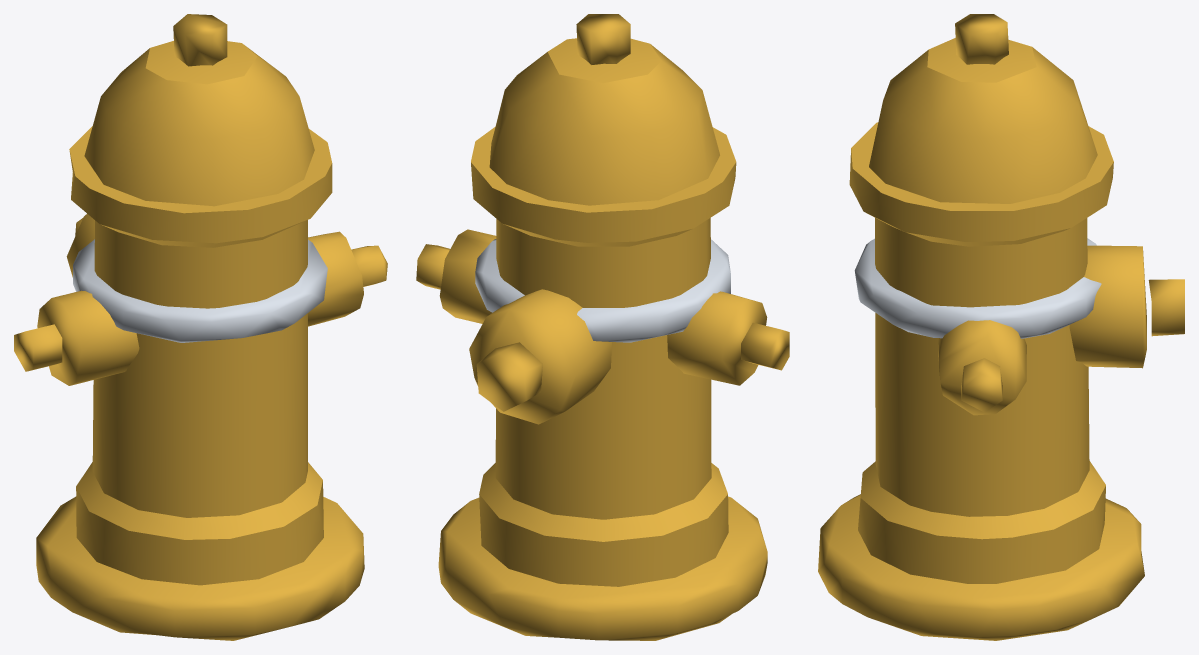
File: gold_hydrant.glb
3 renders of one model, left to right at view 1: azimuth 30°, elevation 25°; view 2: azimuth 150°, elevation 25°; view 3: azimuth 270°, elevation 25°, orthographic.
Parts seen in each view (by area): view 1: gold_hydrant; view 2: gold_hydrant; view 3: gold_hydrant.
Boxes of the visible parts, bbox=[...] form: gold_hydrant: bbox=[14, 14, 387, 640]; gold_hydrant: bbox=[416, 14, 789, 640]; gold_hydrant: bbox=[818, 14, 1184, 640].
Size of the model in its own units: 0.4946 by 0.7375 by 0.4432.
1 material, 1 textured.
